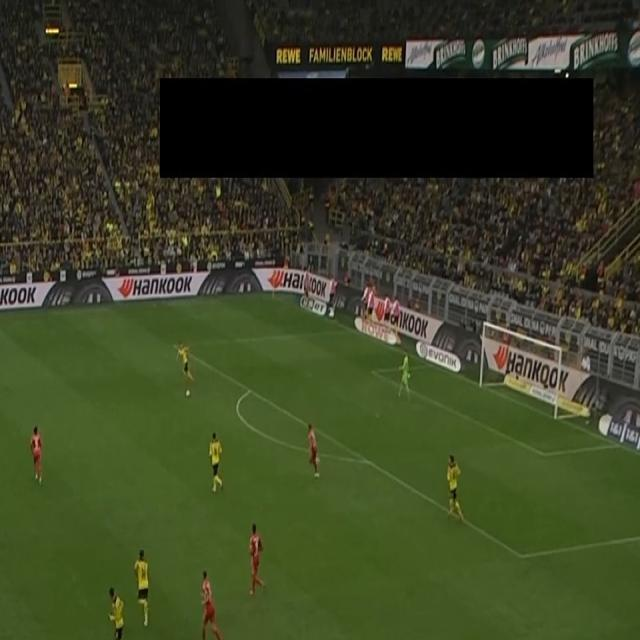ball: (184, 387, 190, 399)
